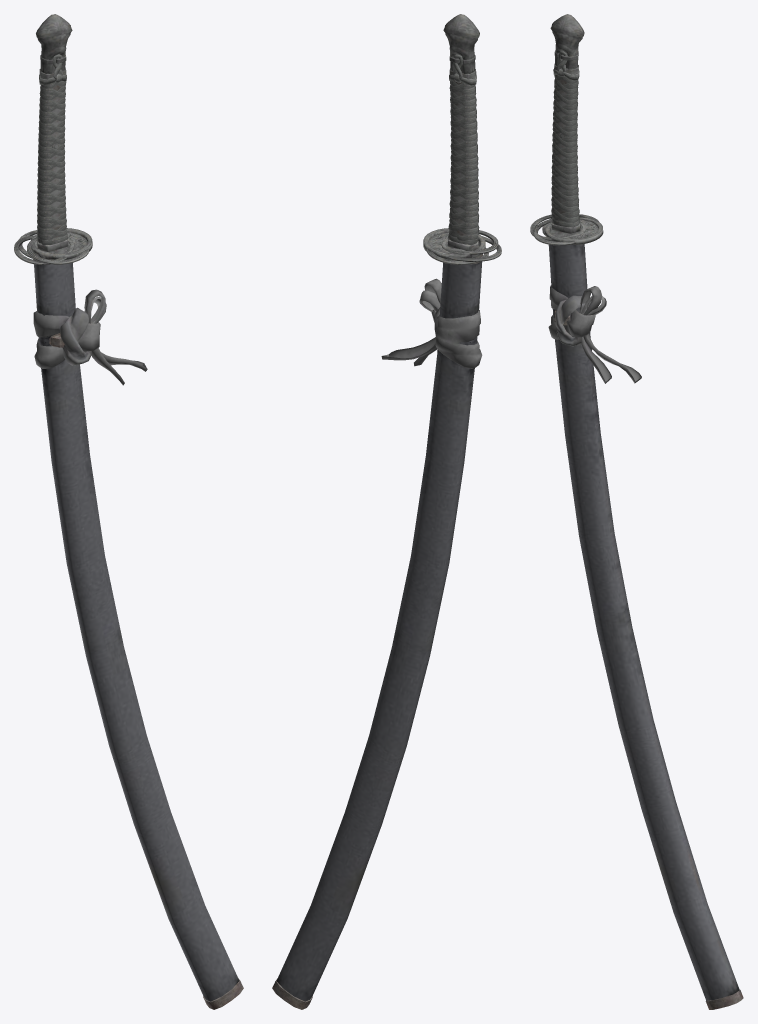
The model's file is weapon-moonveil.glb.
The picture shows the model from 3 angles, left to right: view 1: azimuth 30°, elevation 25°; view 2: azimuth 150°, elevation 25°; view 3: azimuth 330°, elevation 25°; orthographic projection. The views are drawn at different scales.
Parts seen in each view (by area): view 1: wp_a_0556; view 2: wp_a_0556; view 3: wp_a_0556.
Part boxes in pixels (x1,y1,x2,y2): wp_a_0556: (14,14,243,1009); wp_a_0556: (272,14,501,1009); wp_a_0556: (530,14,743,1009).
Size of the model in its own units: 0.3399 by 1.5 by 0.1069.
4 materials, 4 textured.
